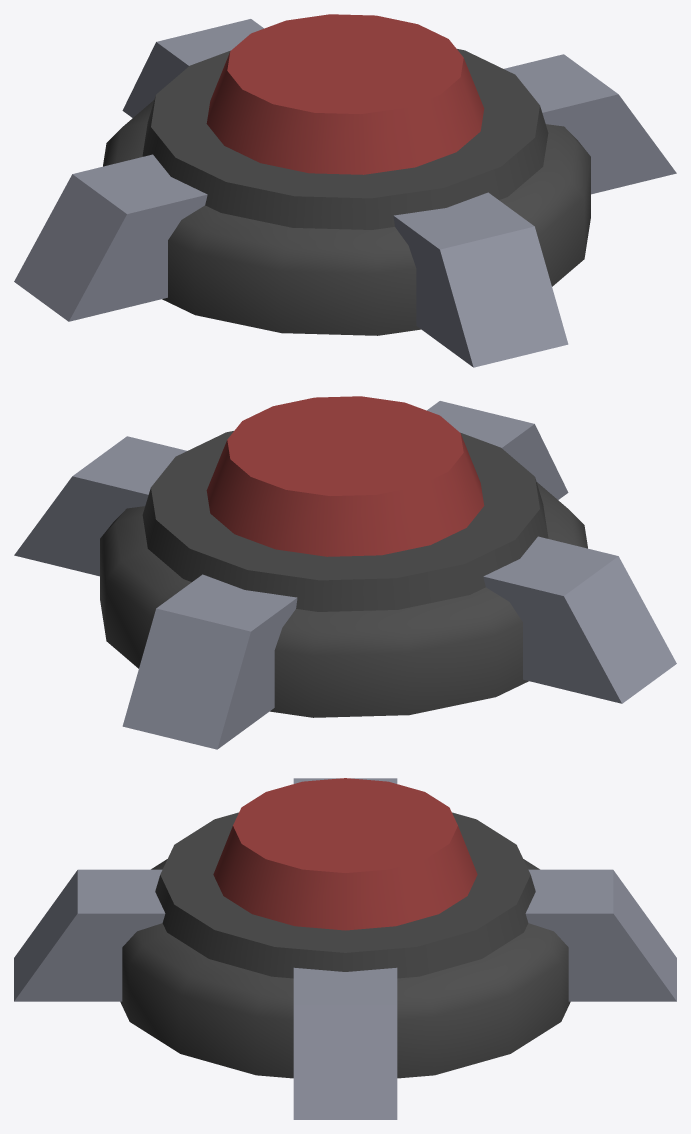
Rendered from LandmineTNT.fbx.
3 renders of one model, top to bottom at view 1: azimuth 30°, elevation 25°; view 2: azimuth 150°, elevation 25°; view 3: azimuth 270°, elevation 25°, orthographic. The views are drawn at different scales.
Parts seen in each view (by area): view 1: LandmineTNT; view 2: LandmineTNT; view 3: LandmineTNT.
Part boxes in pixels (x1,y1,x2,y2): LandmineTNT: [14, 14, 676, 367]; LandmineTNT: [14, 396, 676, 749]; LandmineTNT: [14, 778, 676, 1119].
Size of the model in its own units: 1.11 by 0.2942 by 1.11.
Materials: 1 (1 with a texture image).
